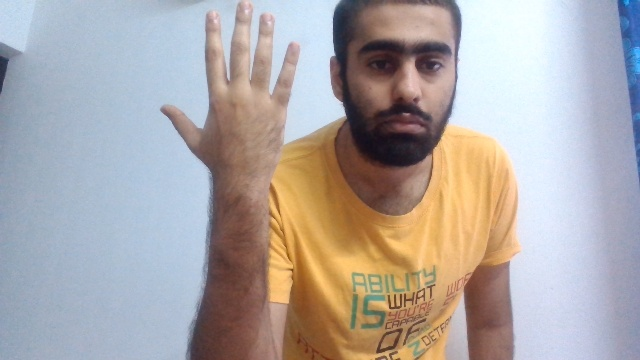paper: (158, 1, 300, 175)
